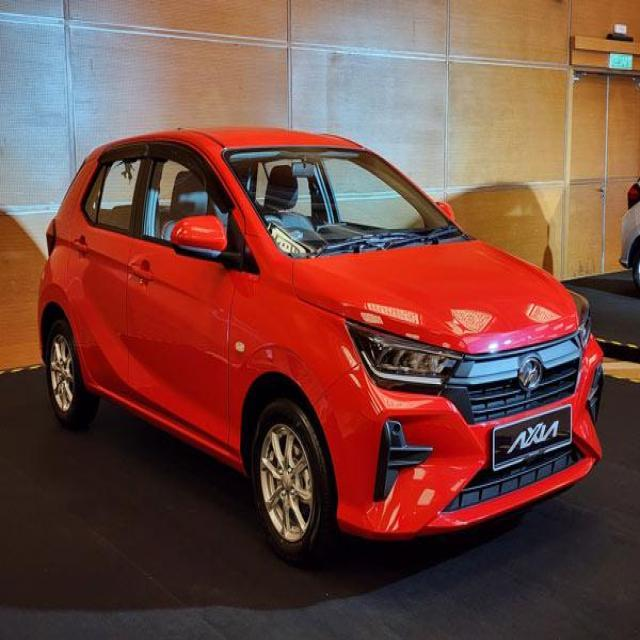PeroduaAxia: (35, 124, 606, 565)
